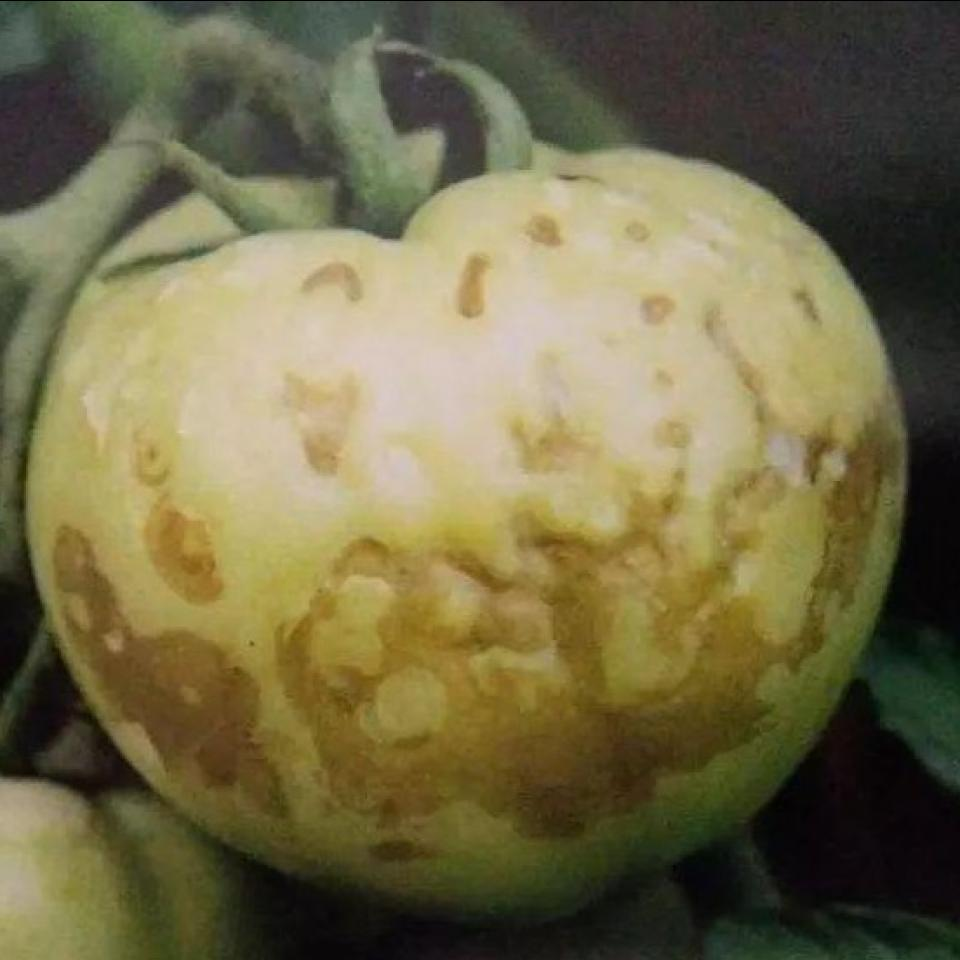Spotted wilt Virus: (22, 131, 910, 914)
